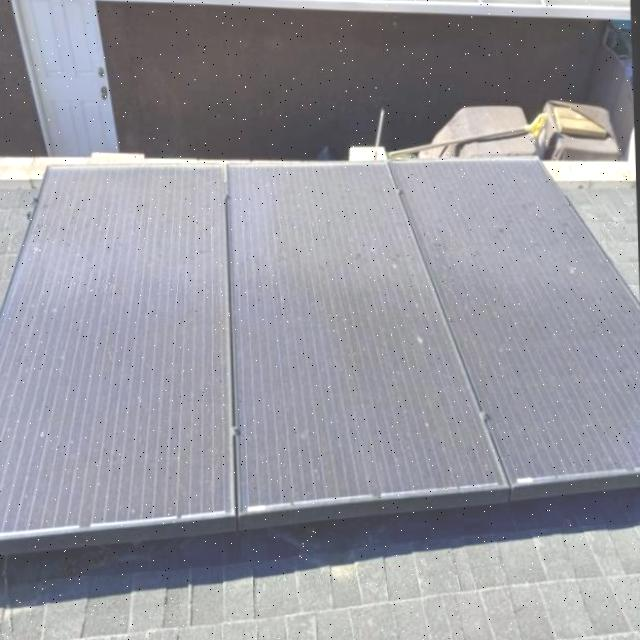Surface Contaminant: (228, 159, 508, 509), (0, 162, 236, 537), (391, 154, 640, 485)
